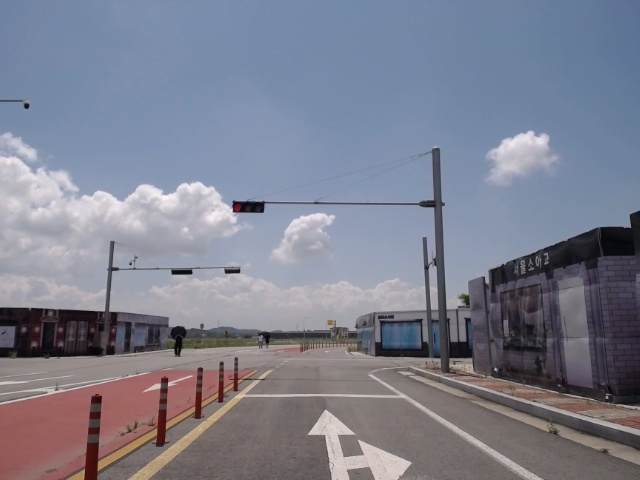red_3: (233, 200, 266, 214)
